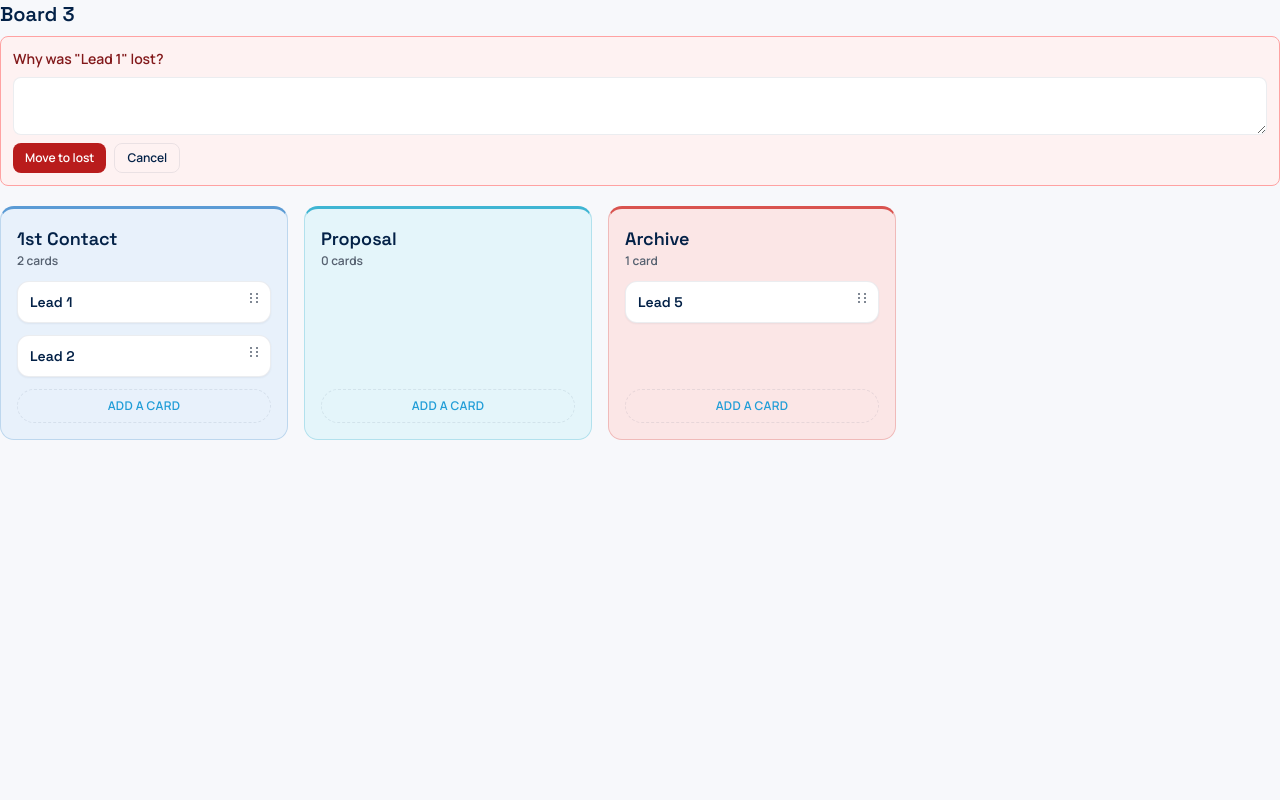
moving a card into the lost stage › rejects an empty reason with a clear message and sends nothing
This screenshot has width=1280, height=800.
Check: the text "Lead 1" is shown, box [30, 293, 72, 311]
Click the button "Move to lost" at (60, 158), box [13, 143, 106, 173]
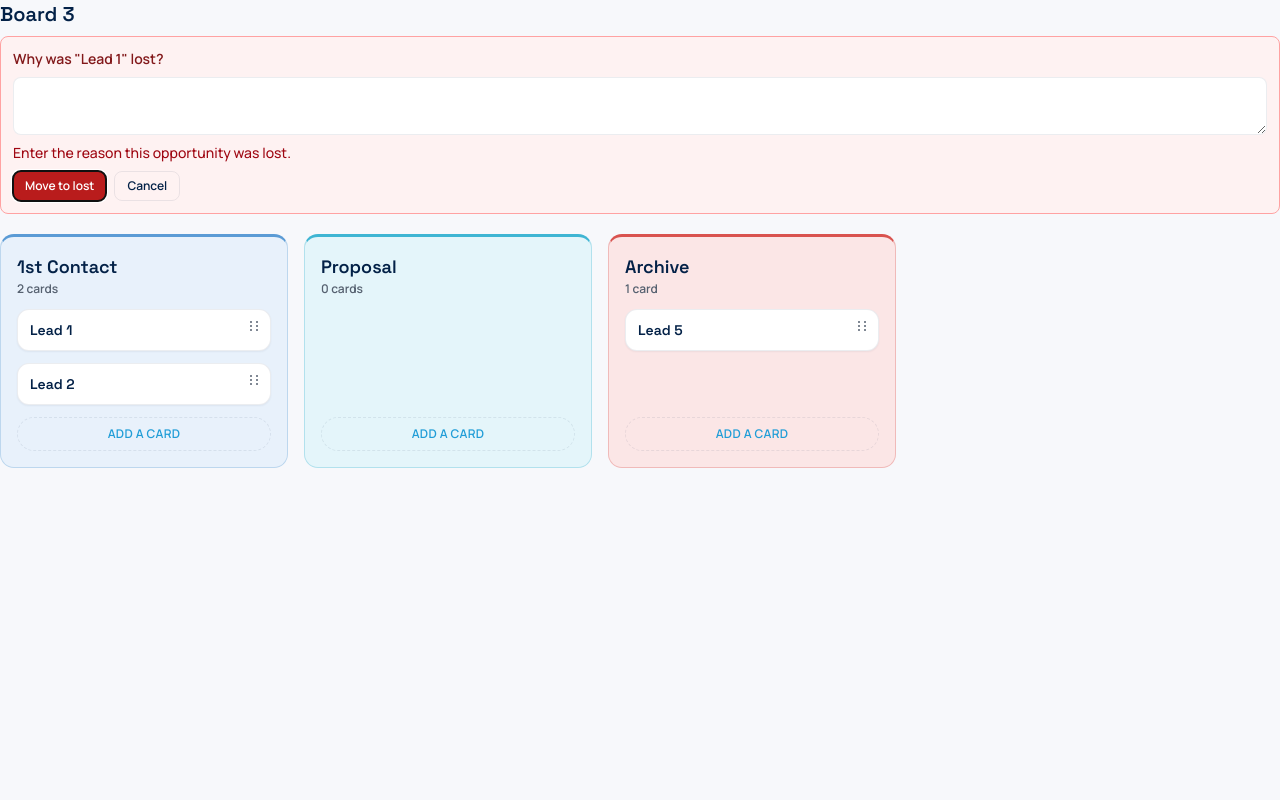
Check: the message with test id "loss-error" reads "Enter the reason this opportunity was lost.", box [13, 143, 291, 162]
